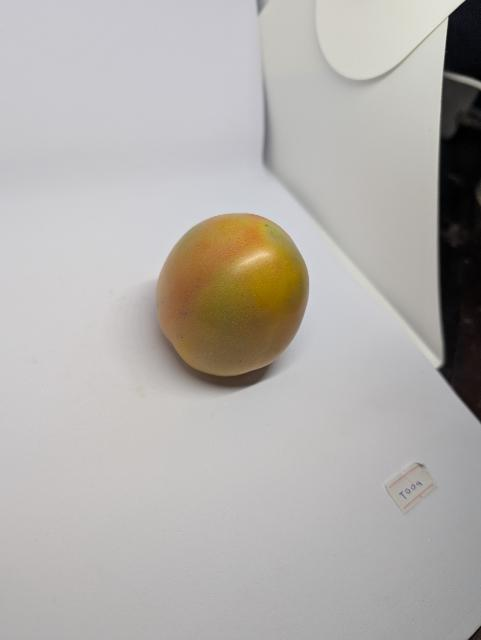turning: (137, 197, 320, 385)
